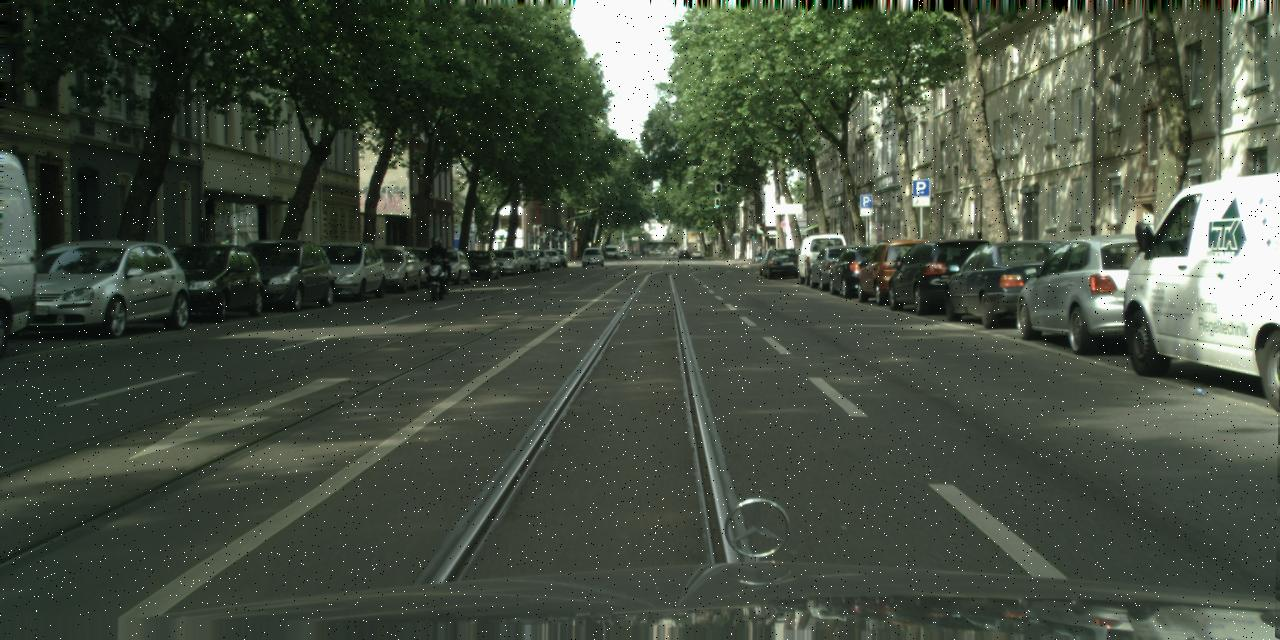ped: (426, 236, 446, 288)
